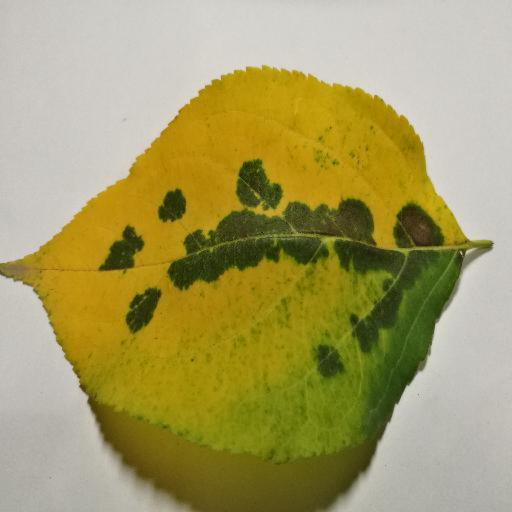Brown_Spot: (383, 205, 454, 248), (277, 201, 366, 234)
